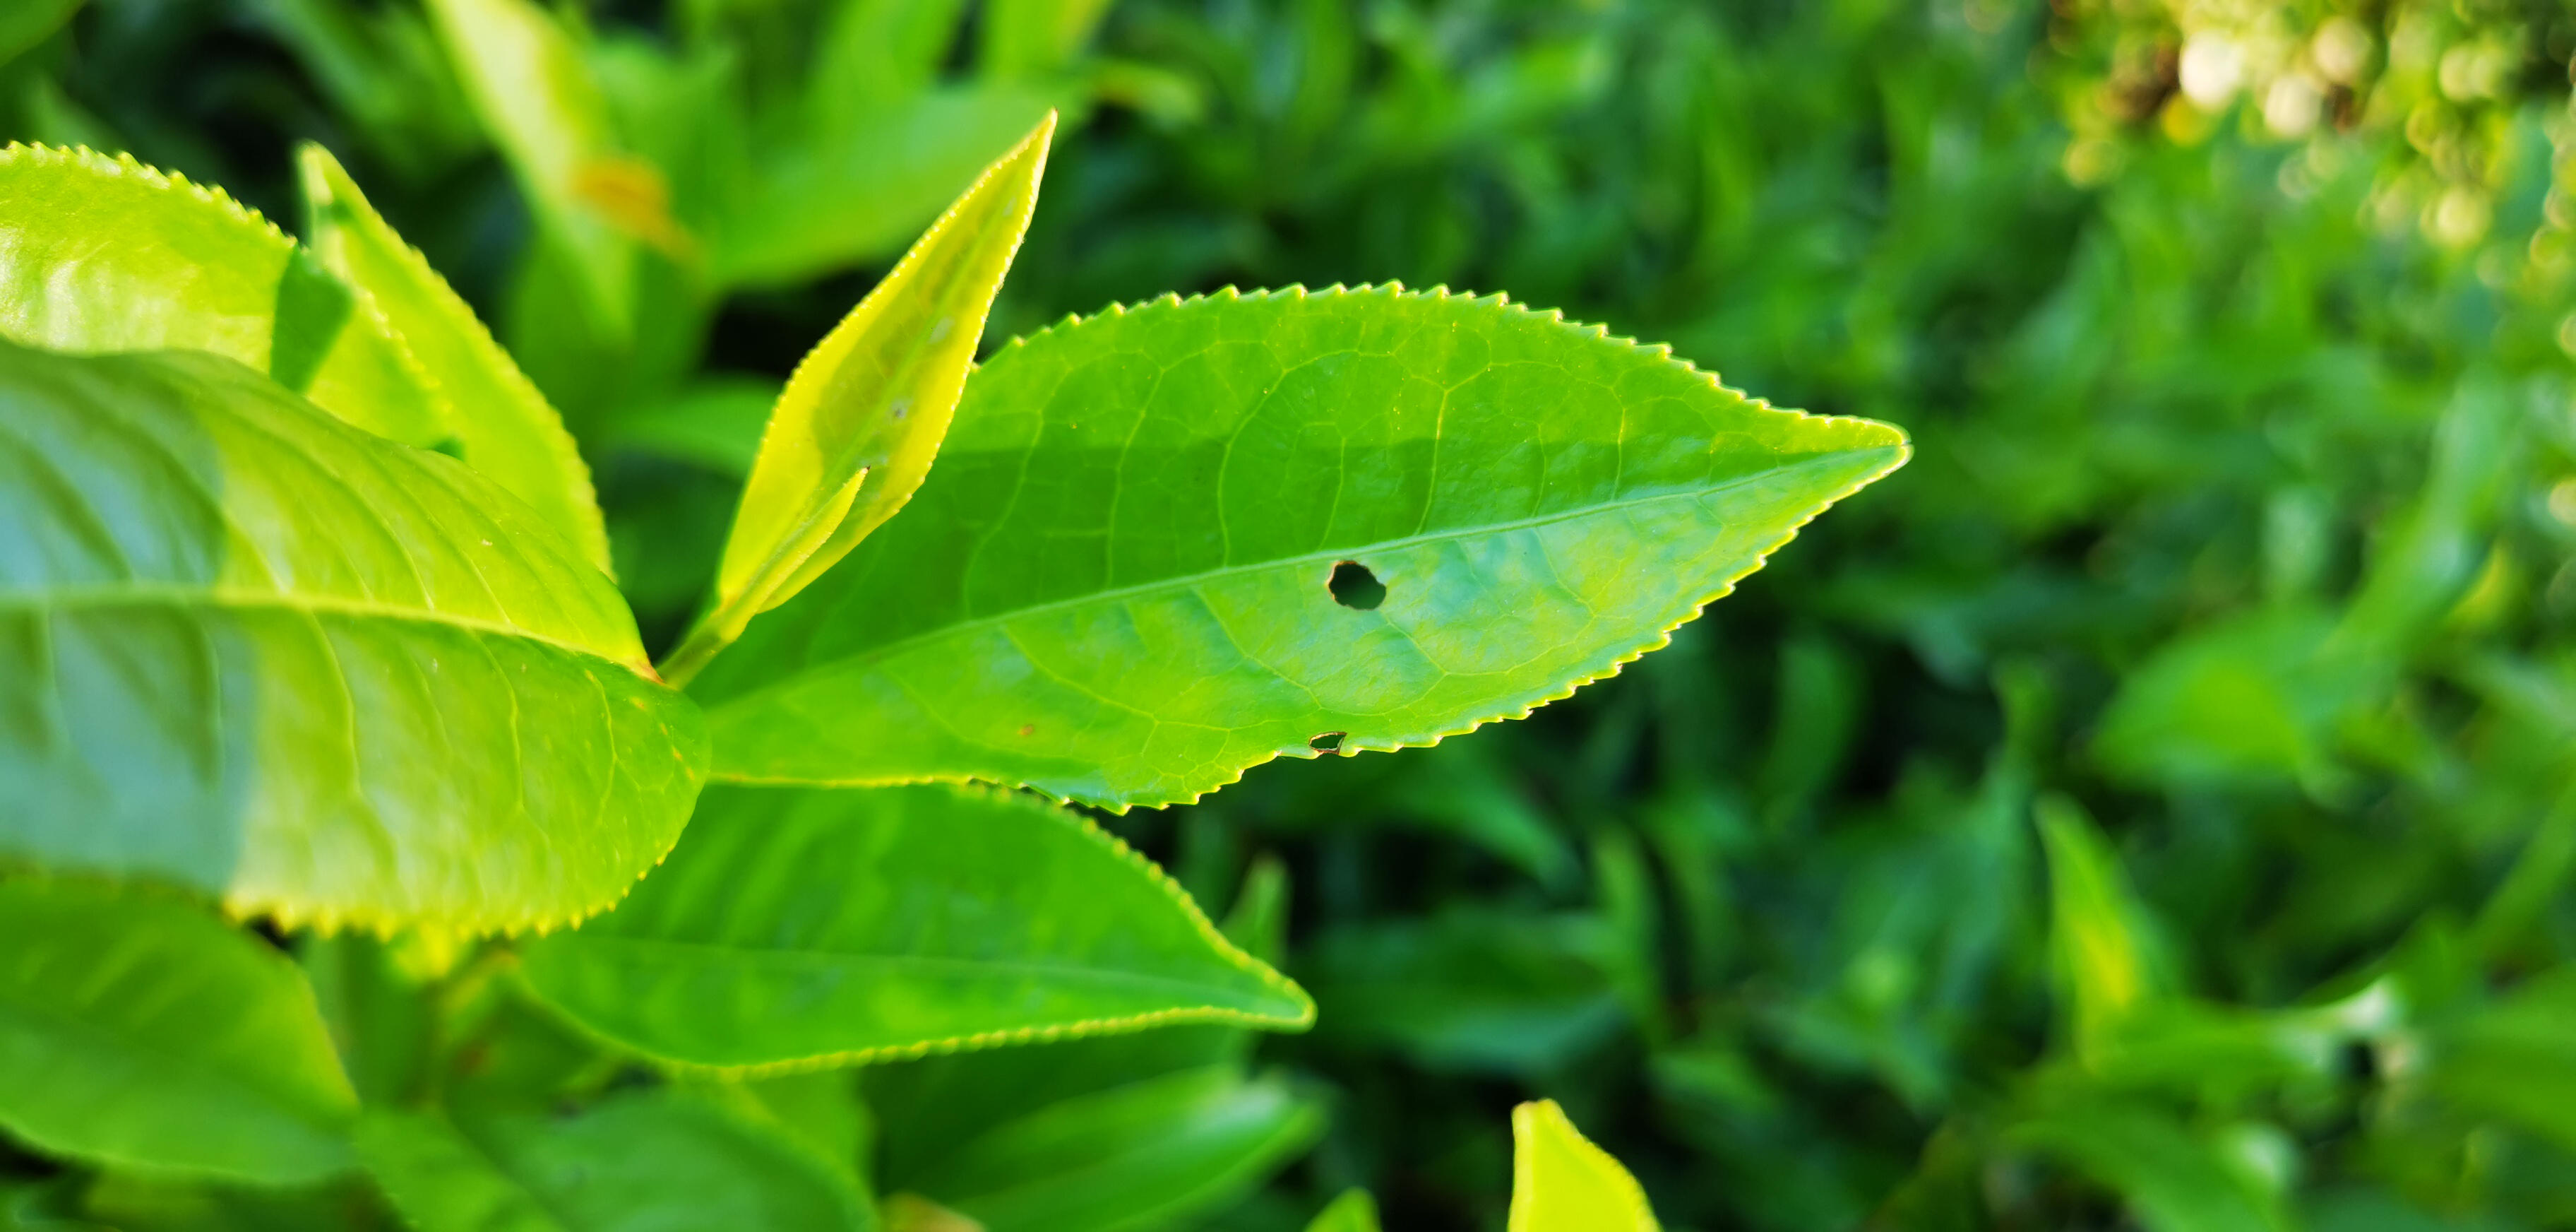chihuo_low: (711, 276, 1916, 820)
healthy: (5, 338, 710, 949), (498, 784, 1321, 1081)
